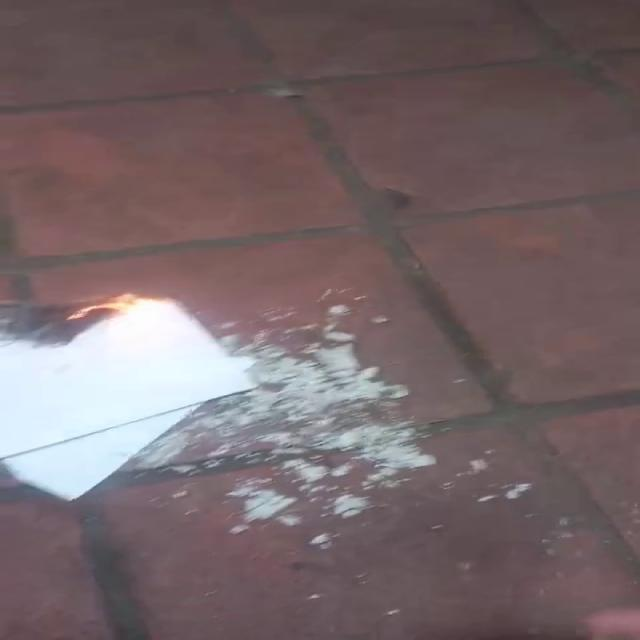Fire_Dangerous: (48, 297, 170, 318)
